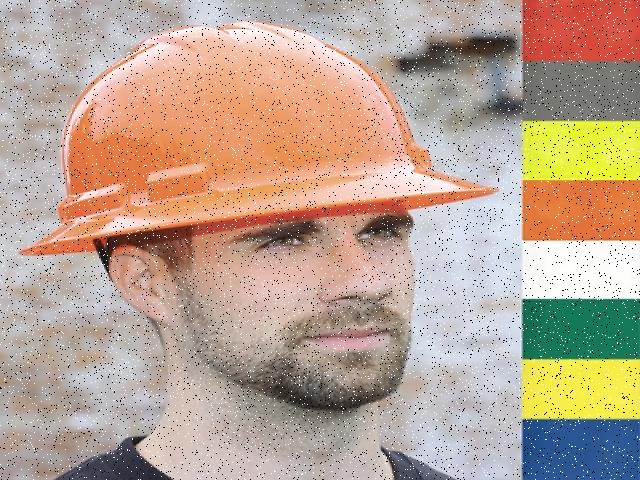Helmet: (9, 17, 508, 261)
